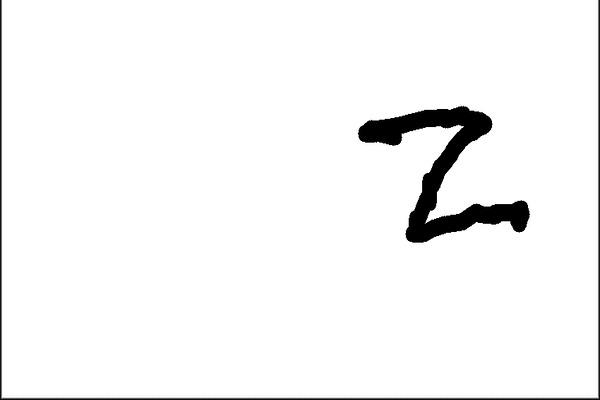Z: (346, 94, 531, 250)
